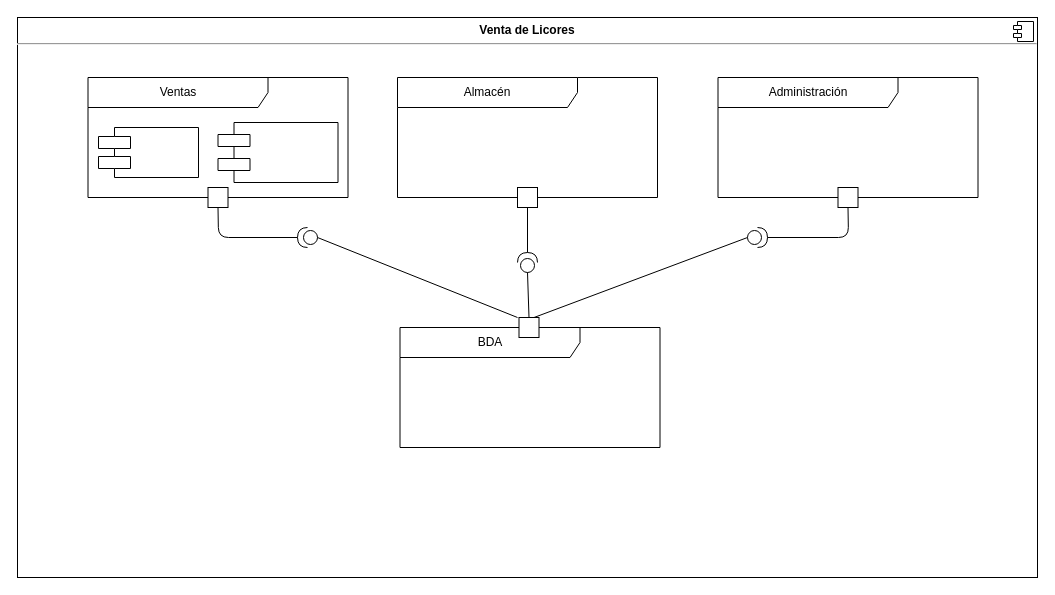
The diagram is 1055 pixels wide and 595 high, and some of its shapes have lost their labels. The centre of each missing label's shape, as x and y in pixels:
Bitcoin: point 277,152
PayPal: point 148,152
